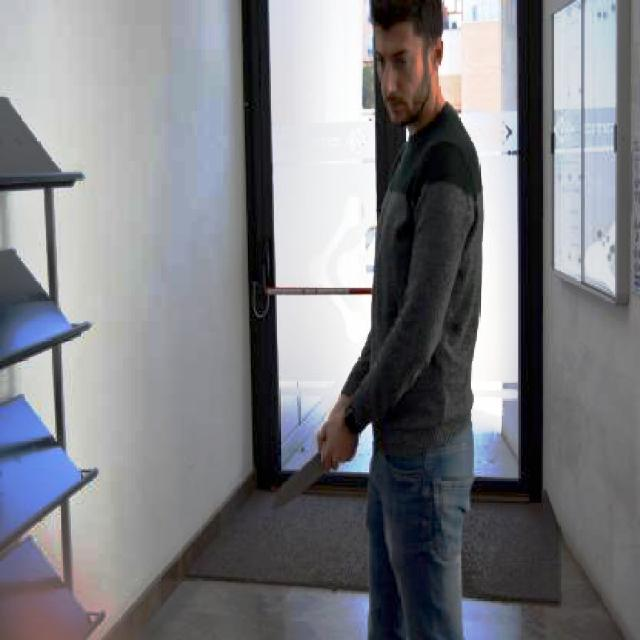Knife: (265, 442, 341, 510)
